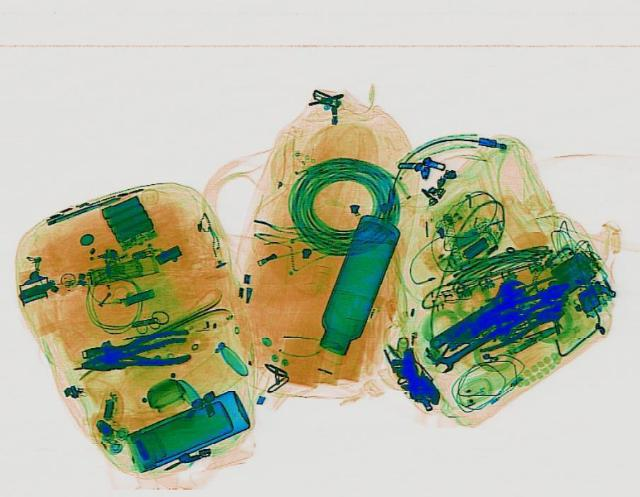Pliers: (470, 274, 580, 339), (76, 335, 190, 376)
Wrench: (421, 274, 533, 352), (427, 324, 503, 374)
